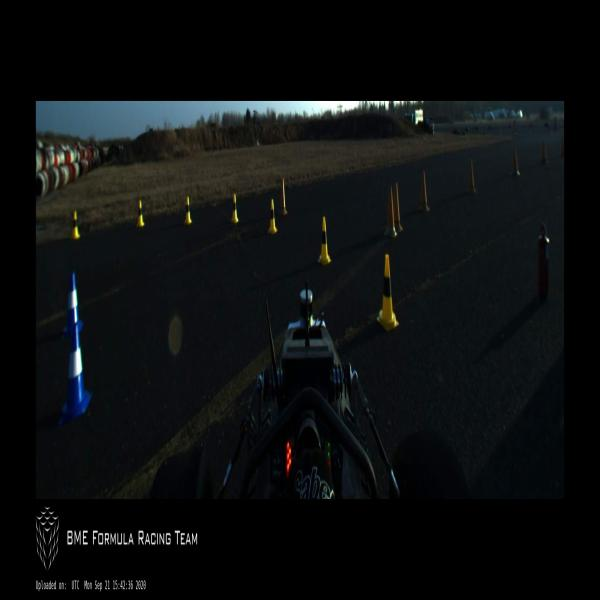blue_cone: (59, 325, 92, 424), (63, 273, 83, 339)
unknown_cone: (384, 186, 397, 239), (394, 182, 402, 232), (420, 171, 429, 212), (468, 160, 476, 195), (511, 148, 520, 178), (280, 178, 287, 216)
yellow_cone: (377, 256, 398, 330), (318, 217, 331, 265), (268, 199, 277, 234), (72, 210, 80, 238), (137, 200, 144, 226), (232, 194, 238, 223), (185, 196, 191, 224)
